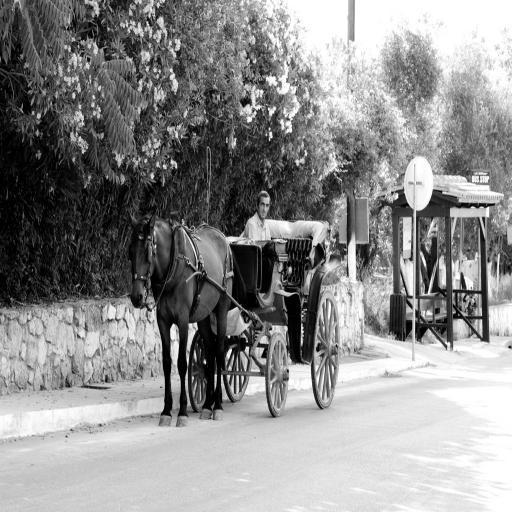horse: (125, 208, 235, 426)
